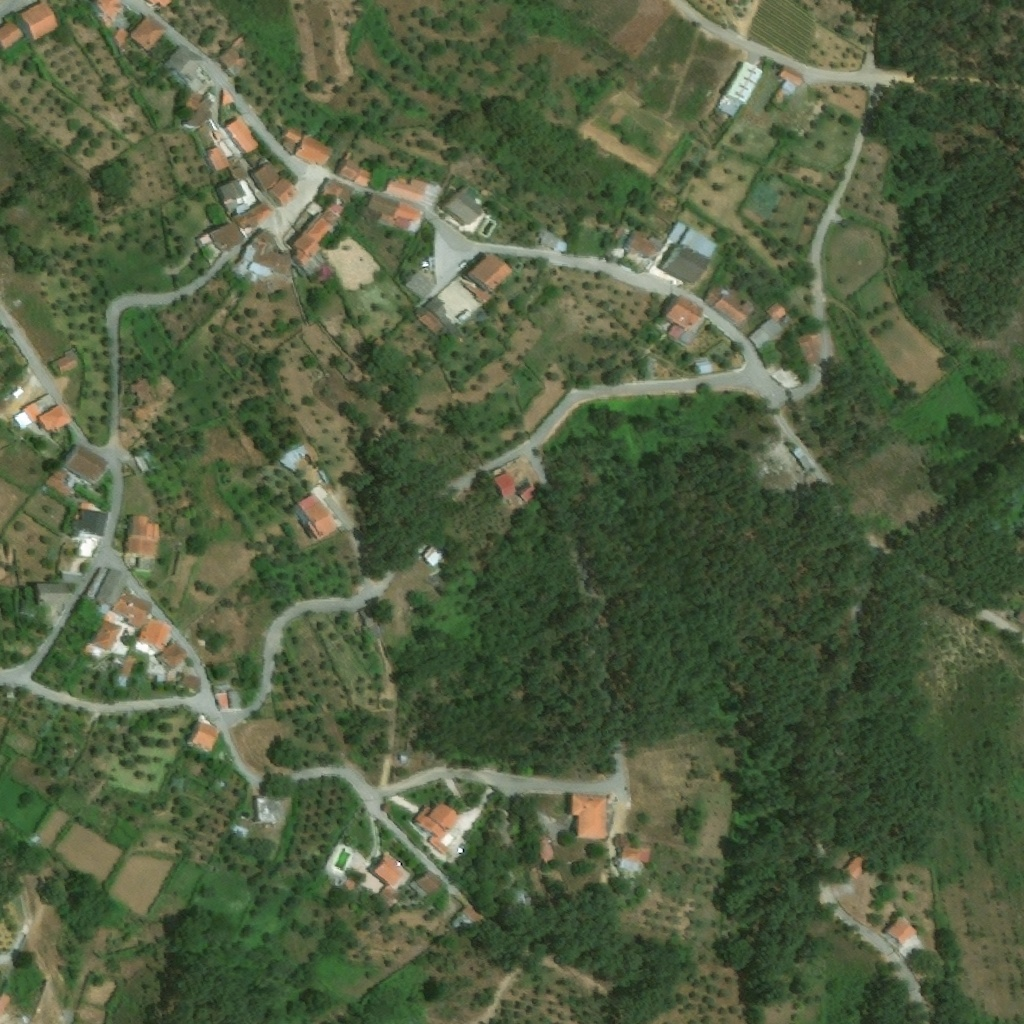0 no-damage: (423, 271, 492, 339), (112, 592, 173, 649), (291, 208, 340, 278), (231, 231, 291, 284), (714, 61, 764, 119), (413, 802, 461, 855), (14, 393, 72, 435), (367, 194, 423, 235), (657, 241, 710, 284), (667, 220, 718, 261), (440, 184, 486, 228), (124, 515, 159, 571), (296, 494, 337, 540), (385, 176, 443, 208), (71, 509, 109, 557), (467, 253, 512, 293), (65, 444, 110, 484), (705, 288, 754, 324), (747, 314, 793, 351), (199, 222, 247, 256), (570, 794, 607, 838), (165, 45, 206, 83), (663, 294, 705, 331), (18, 2, 58, 40), (217, 178, 258, 215), (95, 568, 130, 607), (371, 852, 408, 888), (225, 117, 259, 154), (625, 228, 662, 261), (181, 92, 213, 129), (130, 17, 164, 51), (294, 135, 329, 168), (403, 272, 439, 302), (234, 203, 272, 229), (251, 162, 283, 192), (157, 641, 189, 671), (267, 177, 298, 207), (91, 620, 123, 649), (189, 720, 218, 752), (886, 916, 918, 945), (277, 442, 309, 471), (409, 871, 443, 898), (96, 0, 125, 29), (57, 554, 87, 582), (536, 228, 570, 252), (52, 347, 82, 374), (769, 80, 797, 108), (36, 582, 75, 602), (220, 49, 248, 76), (44, 473, 74, 498), (420, 311, 448, 337), (257, 796, 286, 821), (770, 366, 800, 390), (321, 180, 353, 202), (843, 855, 870, 880), (0, 20, 23, 49), (796, 334, 817, 365), (493, 471, 516, 499), (457, 905, 484, 928), (777, 65, 805, 86), (422, 544, 446, 567), (134, 448, 158, 471), (336, 159, 359, 182), (537, 835, 555, 864), (791, 447, 812, 470), (130, 377, 151, 400), (765, 301, 787, 322), (209, 147, 228, 171), (622, 847, 652, 862), (354, 166, 372, 187), (518, 485, 539, 503), (282, 126, 302, 144), (181, 674, 202, 691), (324, 197, 343, 215), (693, 360, 714, 375), (112, 671, 129, 688), (122, 655, 138, 673), (617, 859, 641, 871), (113, 27, 128, 44), (380, 885, 397, 900), (215, 692, 229, 710), (231, 824, 249, 838), (228, 691, 241, 710), (679, 331, 695, 346), (667, 325, 683, 339), (186, 92, 199, 109), (52, 468, 67, 481), (222, 90, 234, 106), (513, 892, 526, 904), (156, 675, 164, 684)
4 un-classified: (146, 0, 172, 10)
